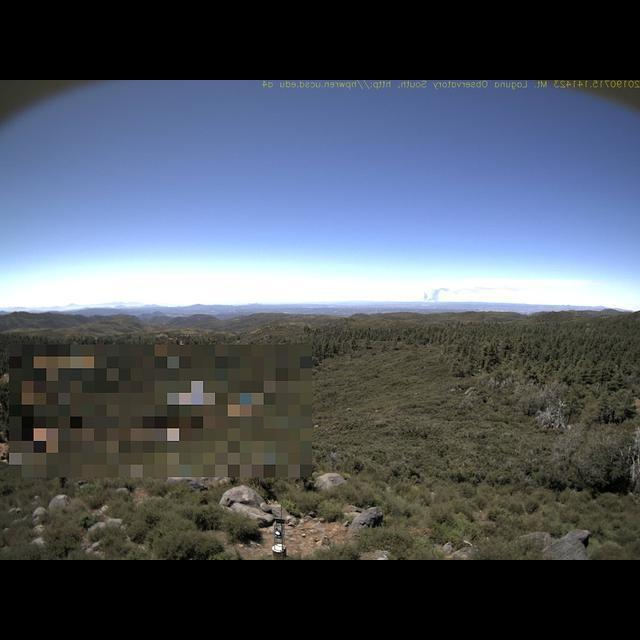Smoke: (423, 284, 456, 302)
